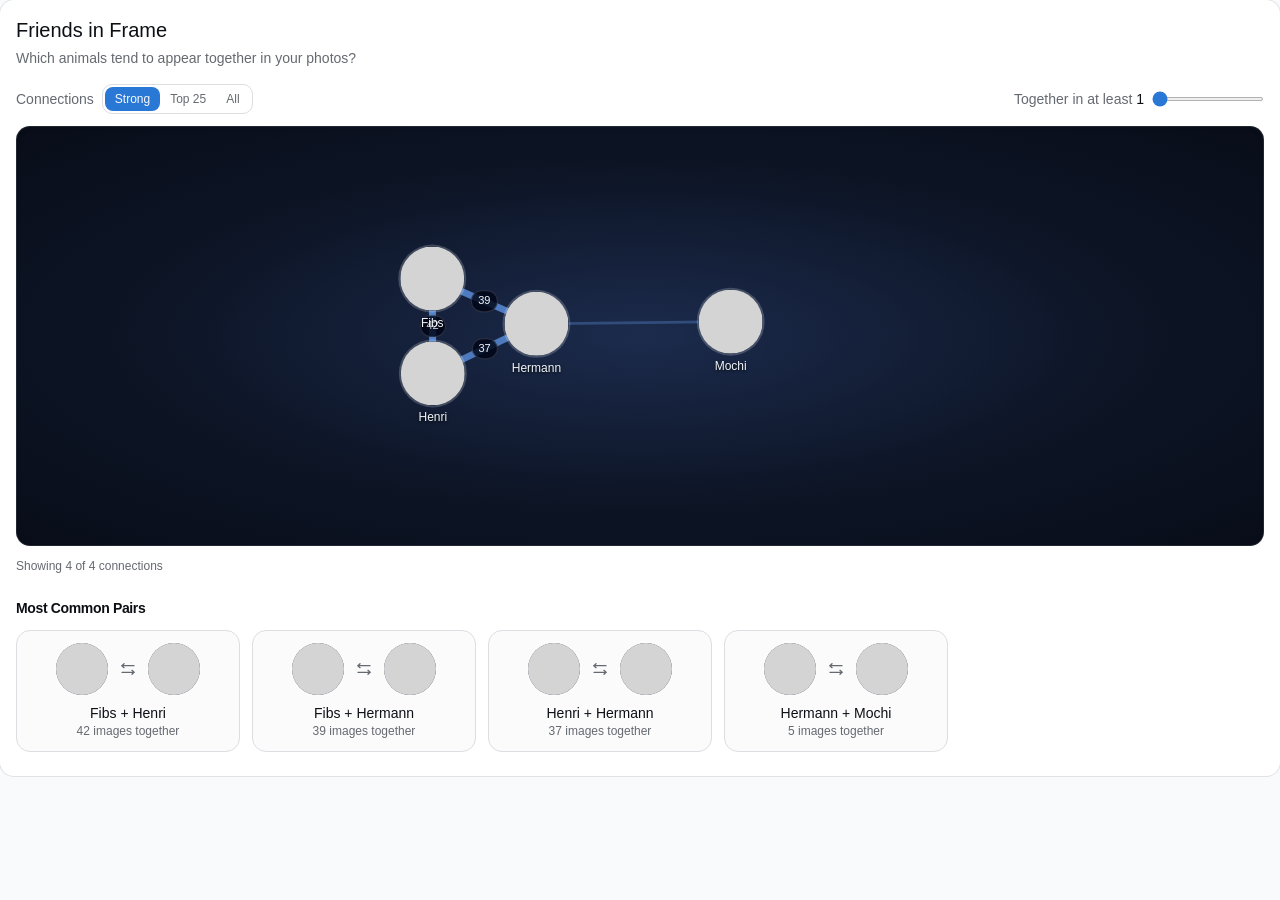
Test case: FriendsInFrame states › hovering a pair card lights its edge in the network
The width and height of the screenshot is (1280, 900).
Hover over the list item "Hermann + Mochi 5 images together" at (836, 691), box [724,630,948,752]
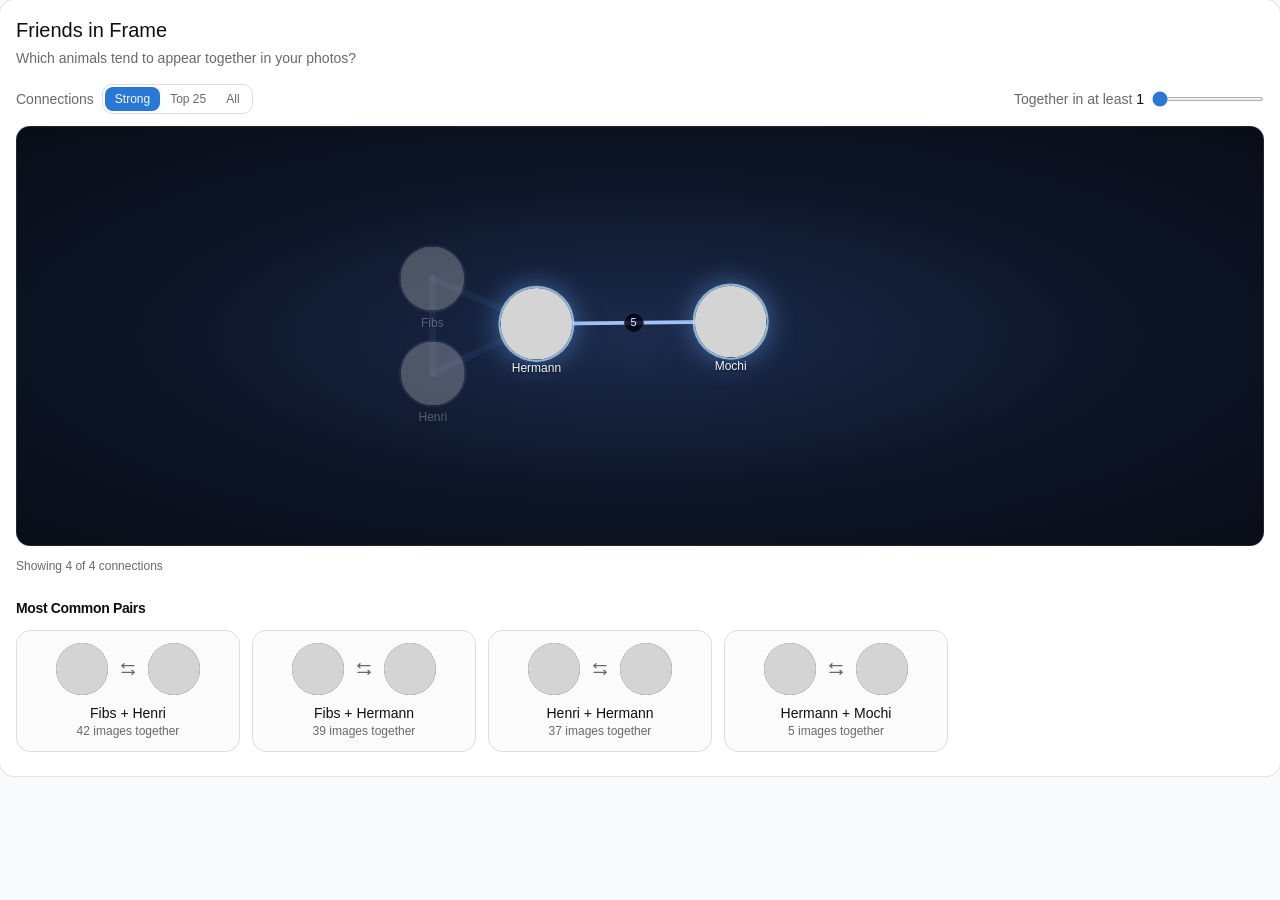
Check: the text "5" is shown, box [624,312,644,334]
